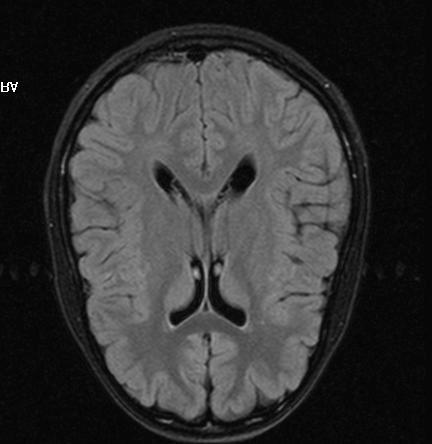Normal_Brain: (39, 21, 431, 444)
